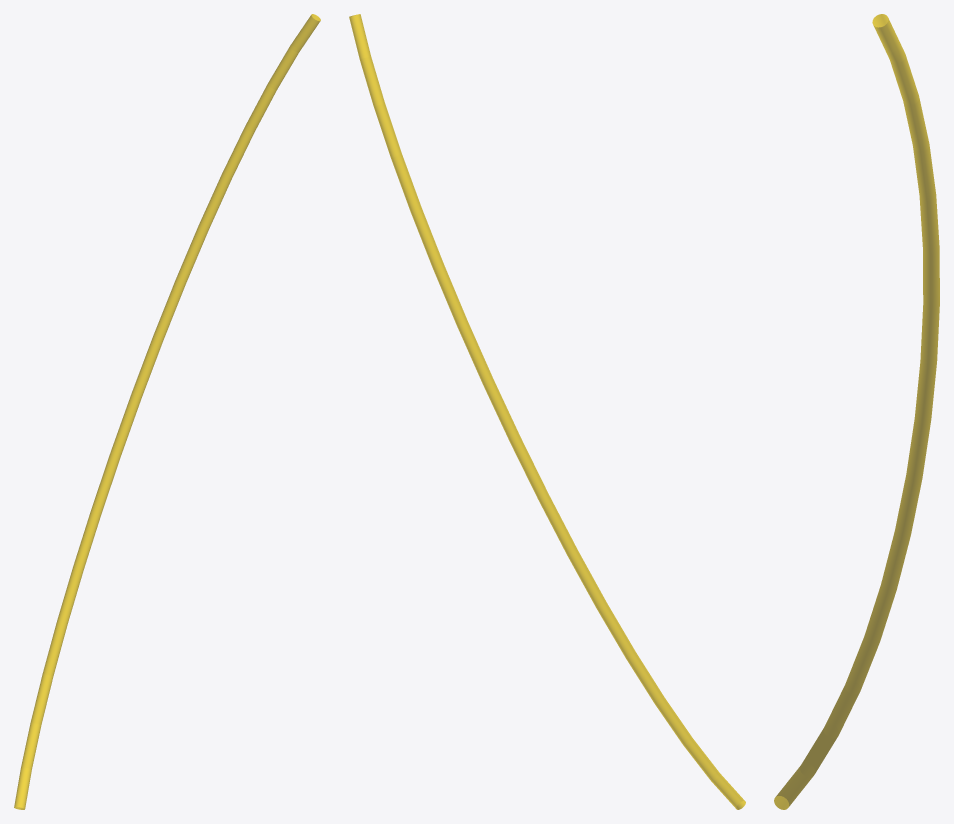
Rendered from Event_84804159_track_19.fbx.
The picture shows the model from 3 angles, left to right: view 1: azimuth 30°, elevation 25°; view 2: azimuth 150°, elevation 25°; view 3: azimuth 270°, elevation 25°; orthographic projection. The views are drawn at different scales.
Visible parts, largest first — view 1: Model; view 2: Model; view 3: Model.
Part boxes in pixels (x1,y1,x2,y2): Model: (14,14,320,809); Model: (349,14,745,809); Model: (774,14,939,809).
Size of the model in its own units: 1.39 by 2.71 by 0.3962.
